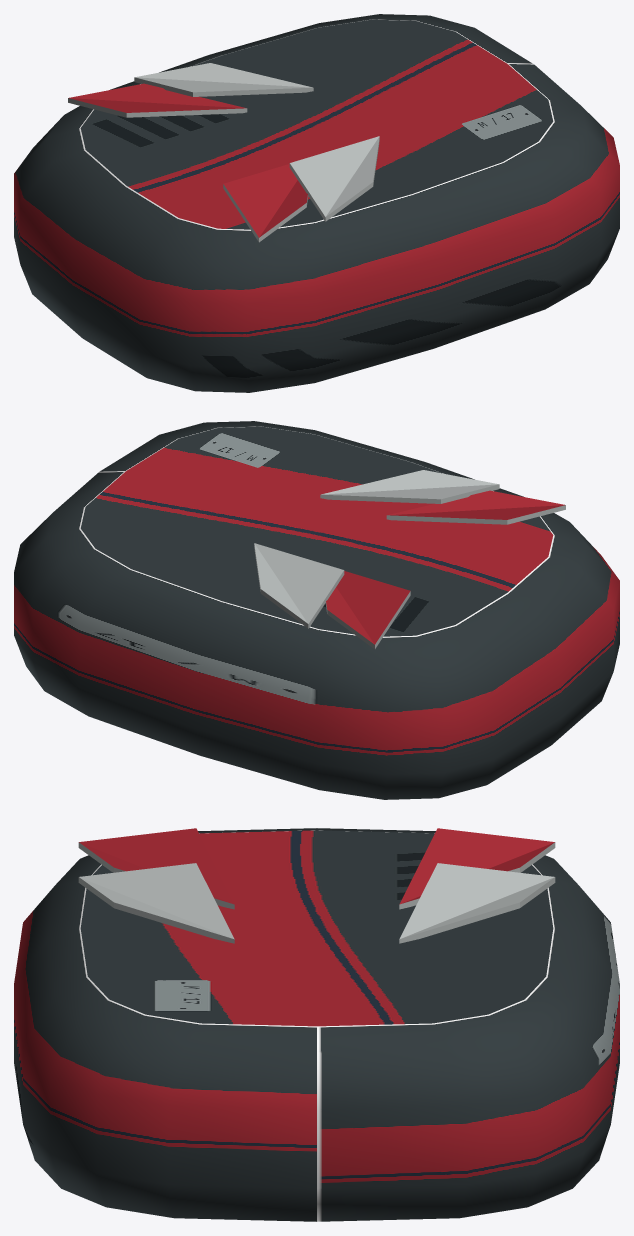
The model's file is MotorCowl_17_SR_白鋼・赤稜.glb.
The picture shows the model from 3 angles, top to bottom: view 1: azimuth 30°, elevation 25°; view 2: azimuth 150°, elevation 25°; view 3: azimuth 270°, elevation 25°; orthographic projection. The views are drawn at different scales.
Parts seen in each view (by area): view 1: MotorCowl_17_SR; view 2: MotorCowl_17_SR; view 3: MotorCowl_17_SR.
Part boxes in pixels (left/top/right/bottom): MotorCowl_17_SR: left=14, top=14, right=619, bottom=392; MotorCowl_17_SR: left=14, top=421, right=619, bottom=799; MotorCowl_17_SR: left=14, top=828, right=619, bottom=1221.
Bounding box in the file's own units: 0.332 × 0.1196 × 0.286.
Materials: 2 (2 with a texture image).
